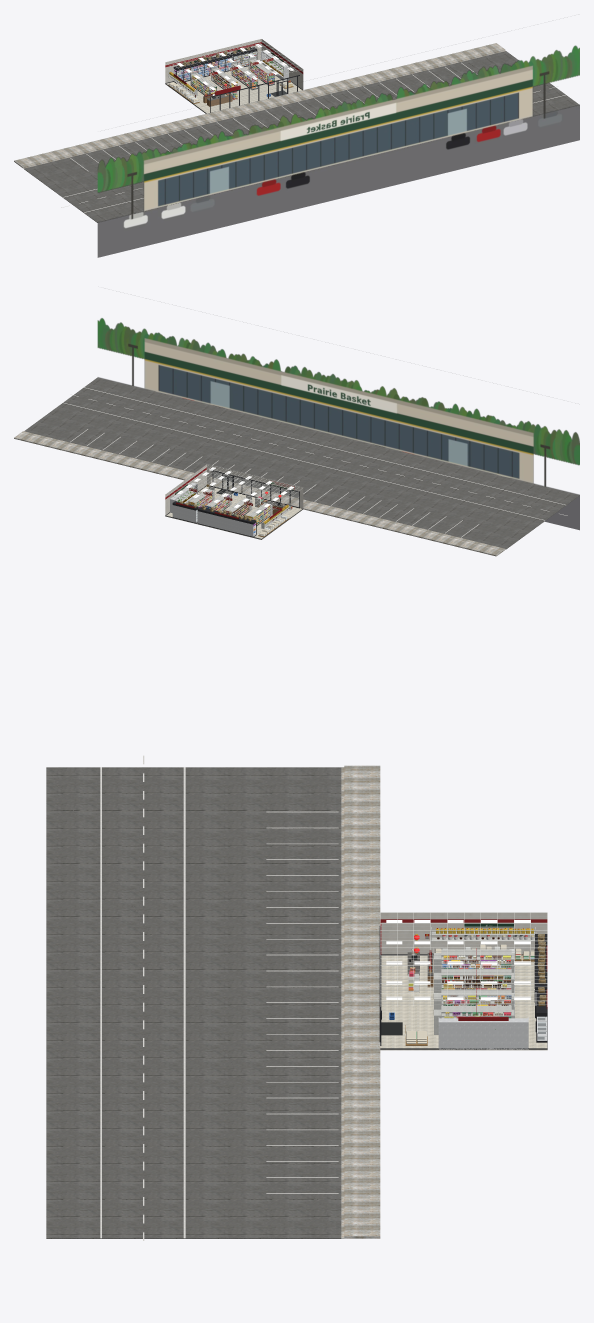
File: us_asian_market.glb
3 views of the same model, one above another, from view 1: azimuth 30°, elevation 25°; view 2: azimuth 150°, elevation 25°; view 3: azimuth 270°, elevation 25° (orthographic). The views are drawn at different scales.
Visible parts, largest first — view 1: usam_view, usam_out_lot, usam_out_walk, usam_grid, usam_products, usam_floor, usam_shelves, WALL_S_glass, usam_out_lines, usam_case_back, WALL_N_wall, usam_case_frames (+4 smaller); view 2: usam_out_lot, usam_view, usam_out_walk, usam_out_lines, usam_grid, usam_case_back, usam_shelves, usam_floor, usam_products, WALL_S_wall, GLOW_usam_troffers, WALL_E_wall (+3 smaller); view 3: usam_out_lot, usam_out_walk, usam_grid, usam_floor, usam_out_lines, usam_shelves, WALL_W_wall, usam_case_back, usam_products, GLOW_usam_troffers.
Part boxes in pixels (<box>): usam_view: <box>97,45,579,257</box>; usam_out_lot: <box>24,51,579,222</box>; usam_out_walk: <box>14,43,505,168</box>; usam_grid: <box>165,39,303,92</box>; usam_products: <box>174,51,274,99</box>; usam_floor: <box>165,66,301,113</box>; usam_shelves: <box>168,57,274,100</box>; WALL_S_glass: <box>211,77,296,111</box>; usam_out_lines: <box>61,62,565,212</box>; usam_case_back: <box>173,51,288,81</box>; WALL_N_wall: <box>165,39,261,82</box>; usam_case_frames: <box>173,47,257,83</box>; usam_out_lot: <box>24,377,579,549</box>; usam_view: <box>97,318,579,530</box>; usam_out_walk: <box>14,431,505,556</box>; usam_out_lines: <box>63,387,567,537</box>; usam_grid: <box>165,464,302,518</box>; usam_case_back: <box>170,482,255,536</box>; usam_shelves: <box>188,486,290,529</box>; usam_floor: <box>165,486,302,539</box>; usam_products: <box>195,491,270,535</box>; WALL_S_wall: <box>207,464,303,508</box>; GLOW_usam_troffers: <box>177,467,293,513</box>; WALL_E_wall: <box>165,464,206,514</box>; usam_out_lot: <box>46,767,341,1238</box>; usam_out_walk: <box>341,765,380,1238</box>; usam_grid: <box>380,912,547,1006</box>; usam_floor: <box>380,955,547,1050</box>; usam_out_lines: <box>100,755,338,1240</box>; usam_shelves: <box>408,927,536,1034</box>; WALL_W_wall: <box>380,913,547,954</box>; usam_case_back: <box>438,992,547,1049</box>; usam_products: <box>408,955,546,1039</box>; GLOW_usam_troffers: <box>386,920,530,999</box>.
Bounding box in the file's own units: 82.5 × 20 × 36.01.
47 materials, 40 textured.
